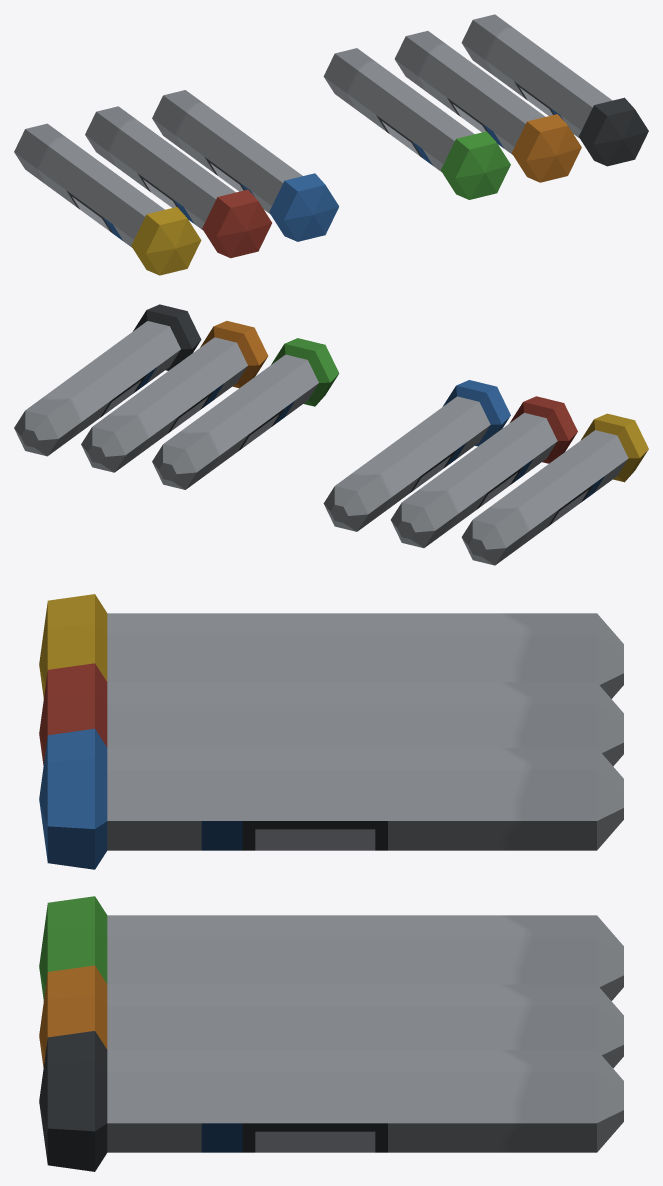
Rendered from SM_Prop_Forensics_Case_01_Insert_02.fbx.
The picture shows the model from 3 angles, top to bottom: view 1: azimuth 30°, elevation 25°; view 2: azimuth 150°, elevation 25°; view 3: azimuth 270°, elevation 25°; orthographic projection. The views are drawn at different scales.
Visible parts, largest first — view 1: SM_Prop_Forensics_Case_01_Insert_02; view 2: SM_Prop_Forensics_Case_01_Insert_02; view 3: SM_Prop_Forensics_Case_01_Insert_02.
Boxes of the visible parts, x1=… form: SM_Prop_Forensics_Case_01_Insert_02: x1=14, y1=14, x2=648, y2=275; SM_Prop_Forensics_Case_01_Insert_02: x1=14, y1=304, x2=648, y2=565; SM_Prop_Forensics_Case_01_Insert_02: x1=39, y1=594, x2=623, y2=1171.
Size of the model in its own units: 51.65 by 5.39 by 25.69.
